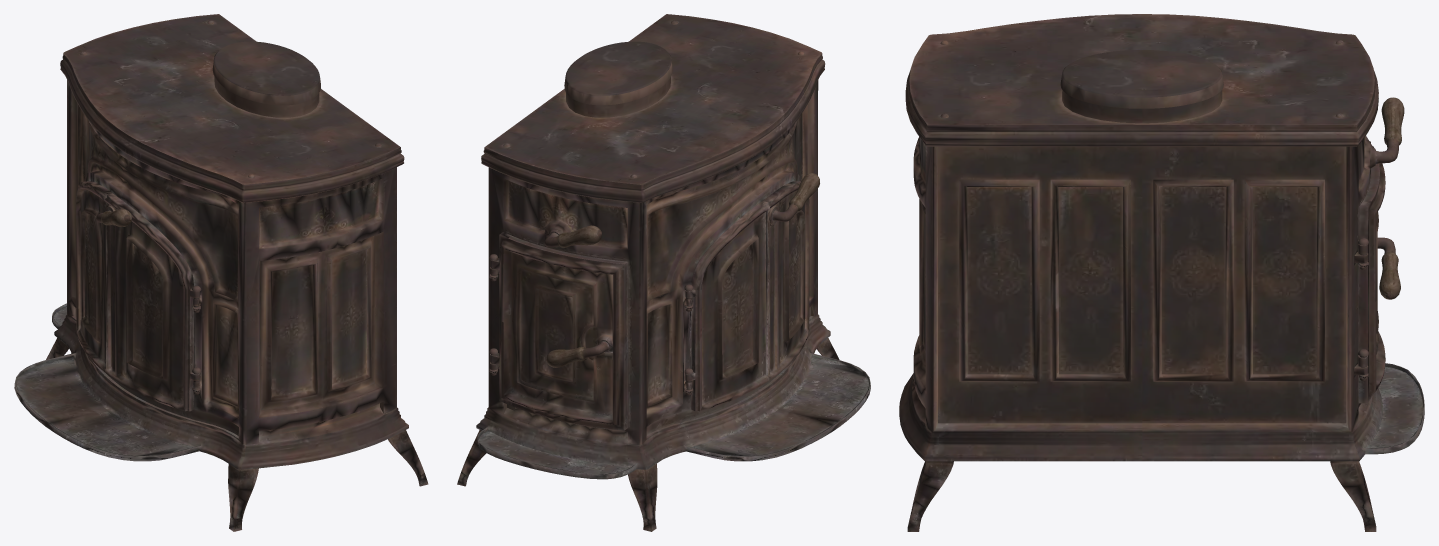
File: furnace.glb
3 renders of one model, left to right at view 1: azimuth 30°, elevation 25°; view 2: azimuth 150°, elevation 25°; view 3: azimuth 270°, elevation 25°, orthographic. The views are drawn at different scales.
Visible parts, largest first — view 1: SM_Stove_01b, SM_Stove_01b.004, SM_Stove_01b.001; view 2: SM_Stove_01b, SM_Stove_01b.004, SM_Stove_01b.001; view 3: SM_Stove_01b.
Boxes of the visible parts, x1,y1,x2,y2 form: SM_Stove_01b: (14,14,428,531); SM_Stove_01b.004: (104,193,199,411); SM_Stove_01b.001: (96,209,131,226); SM_Stove_01b: (457,14,870,531); SM_Stove_01b.004: (763,181,809,379); SM_Stove_01b.001: (772,173,819,221); SM_Stove_01b: (899,14,1424,531).
Size of the model in its own units: 0.7048 by 0.8539 by 0.9597.
1 material, 1 textured.
